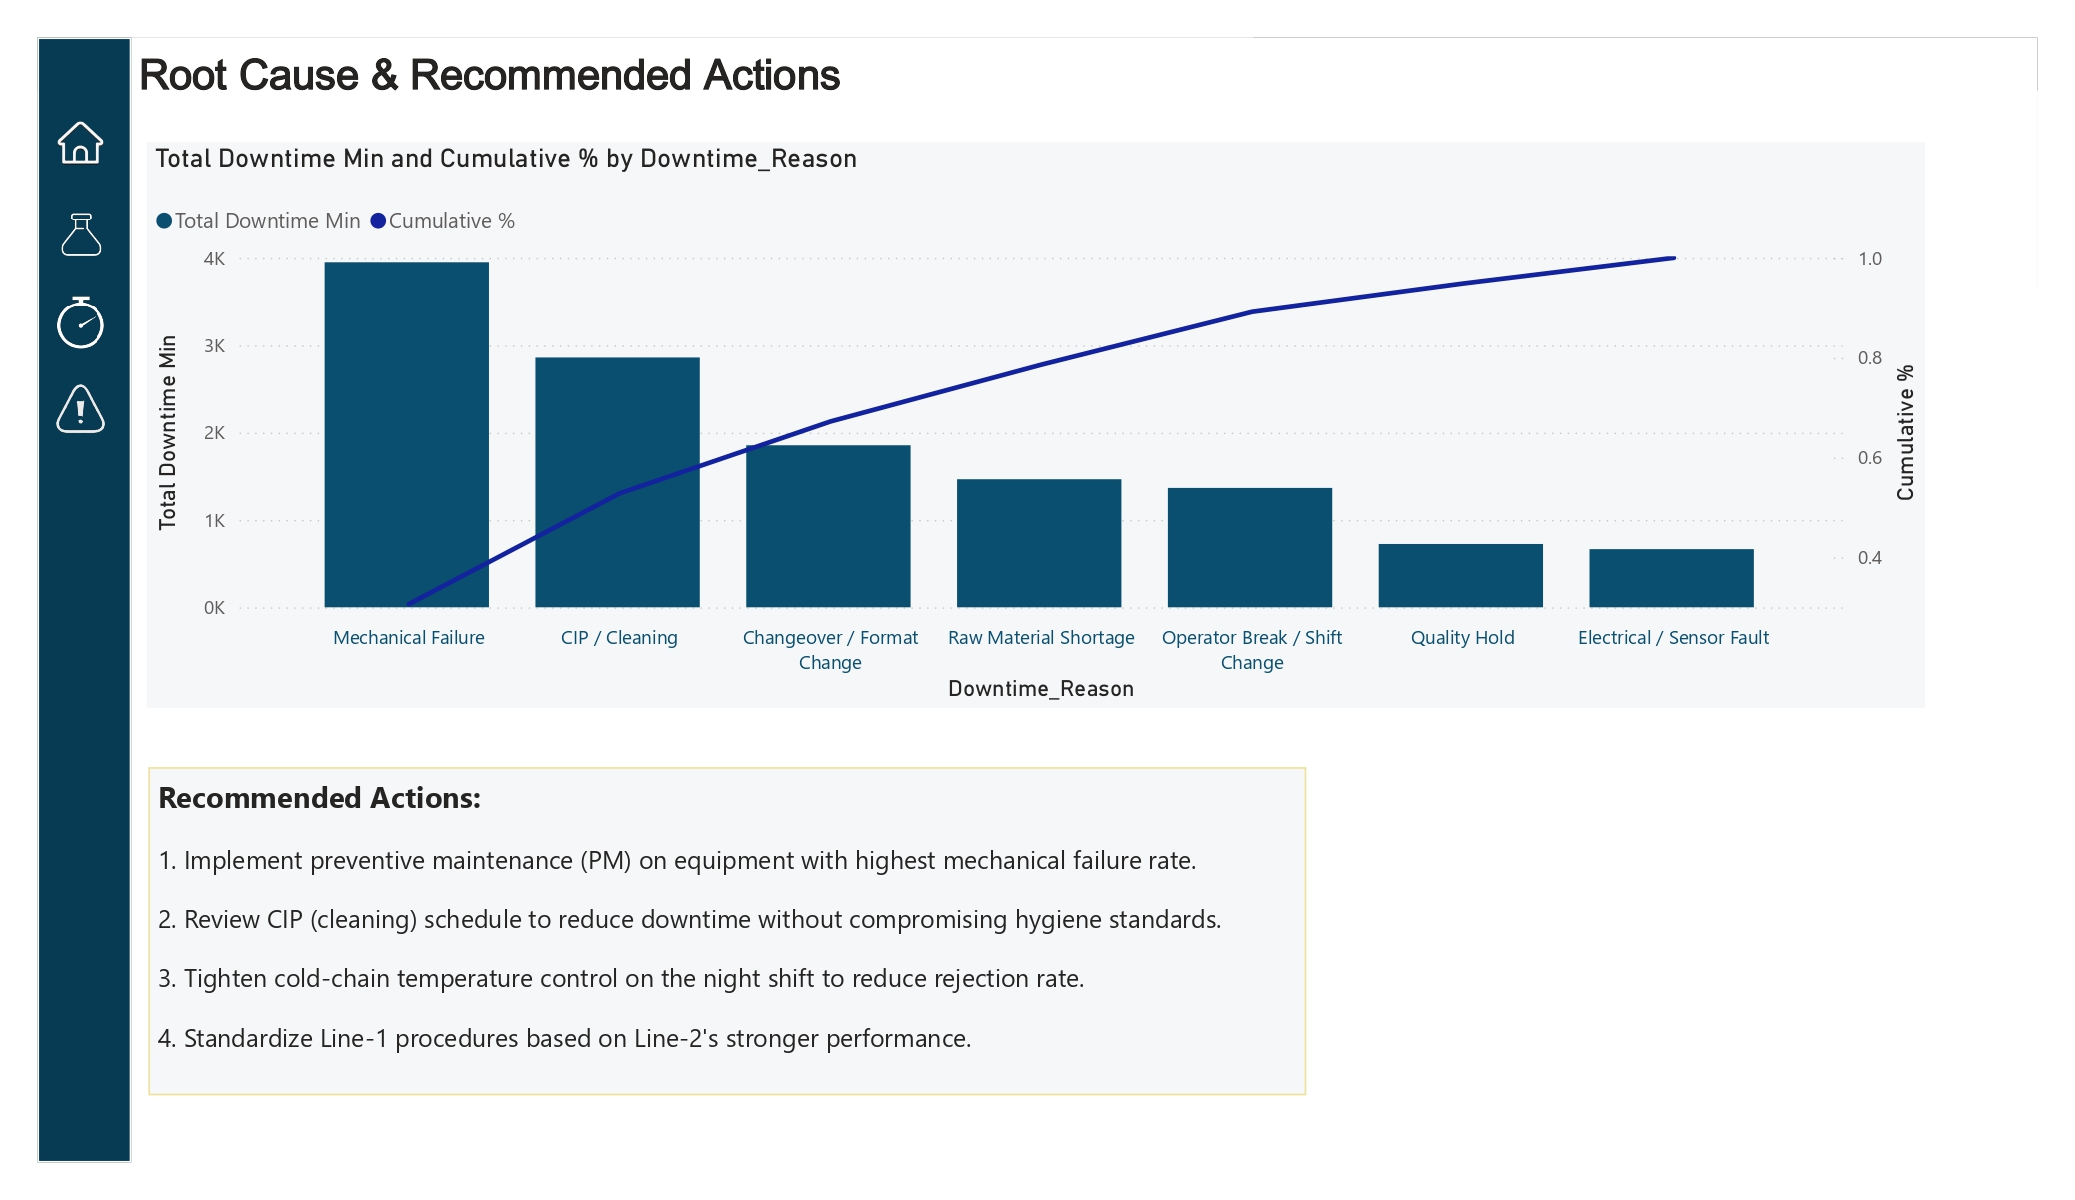

What the dashboard file says about the page in this screenshot:
{"tool":"powerbi","page":{"name":"Root Cause & Action","canvas":[1280,720],"ordinal":3},"visuals":[{"type":"textbox","box":[60,0,717.8,50.1],"z":0},{"type":"shape","box":[0,0,60,720.2],"z":1000},{"type":"image","box":[10,50,35,35],"z":2000},{"type":"image","box":[8,105,40,40],"z":3000},{"type":"image","box":[10,220,35,35],"z":4000},{"type":"image","box":[7,162,40,40],"z":5000},{"type":"lineClusteredColumnComboChart","fields":{"Category":["Fact_Downtime.Downtime_Reason"],"Y":["Fact_Downtime.Total Downtime Min"],"Y2":["Fact_Downtime.Cumulative %"]},"box":[69.7,67.3,1138.5,362],"z":6000},{"type":"textbox","box":[70.9,467.1,741,210.3],"z":7000}]}

Visuals, with their boxes on the page's 1280x720 design canvas (x1, y1, x2, y2). These are canvas units, not pixel positions in the 2075x1200 screenshot, which may show the page scaled, cropped or inside an application window:
textbox: BBox(60, 0, 778, 50)
shape: BBox(0, 0, 60, 720)
image: BBox(10, 50, 45, 85)
image: BBox(8, 105, 48, 145)
image: BBox(10, 220, 45, 255)
image: BBox(7, 162, 47, 202)
lineClusteredColumnComboChart - Fact_Downtime.Downtime_Reason x Fact_Downtime.Total Downtime Min: BBox(70, 67, 1208, 429)
textbox: BBox(71, 467, 812, 677)
